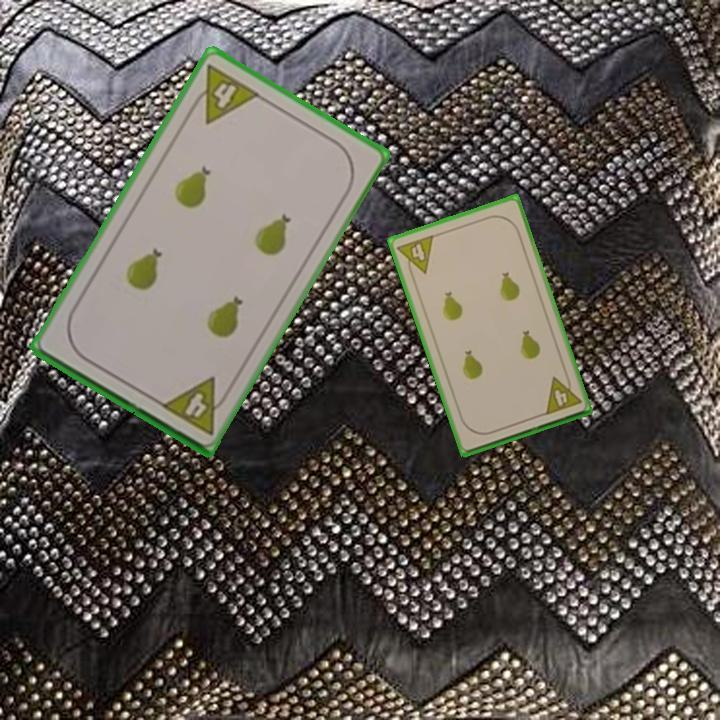4p: (184, 60, 263, 127), (157, 373, 234, 438), (394, 231, 437, 280), (541, 370, 584, 418)
